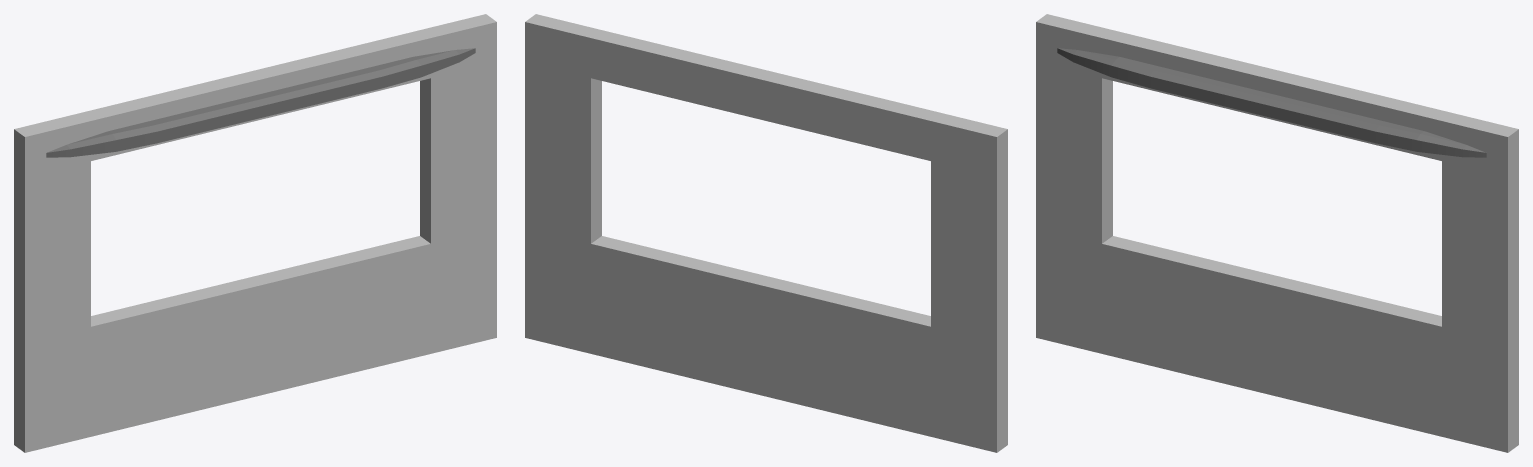
The model's file is Itr_Oven_Door_01.FBX.
3 views of the same model, side by side, from view 1: azimuth 30°, elevation 25°; view 2: azimuth 150°, elevation 25°; view 3: azimuth 330°, elevation 25° (orthographic).
Visible parts, largest first — view 1: Itr_Oven_Door_01; view 2: Itr_Oven_Door_01; view 3: Itr_Oven_Door_01.
Boxes of the visible parts, box(x1,y1,x2,y2) form: Itr_Oven_Door_01: box(14, 14, 496, 452); Itr_Oven_Door_01: box(525, 14, 1007, 452); Itr_Oven_Door_01: box(1036, 14, 1518, 452).
Bounding box in the file's own units: 45.15 × 28.87 × 3.37.
